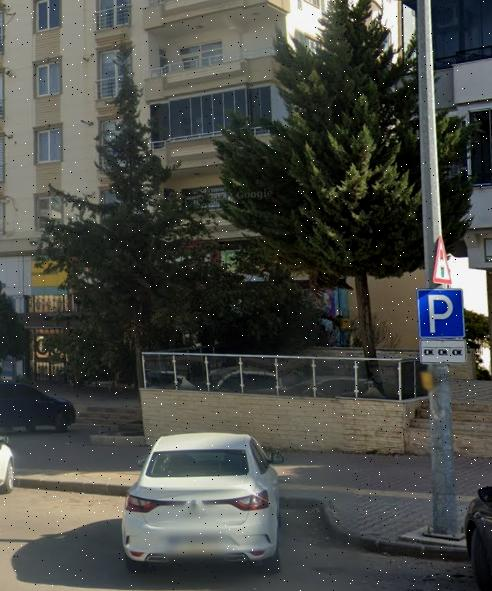park: (420, 291, 466, 334)
